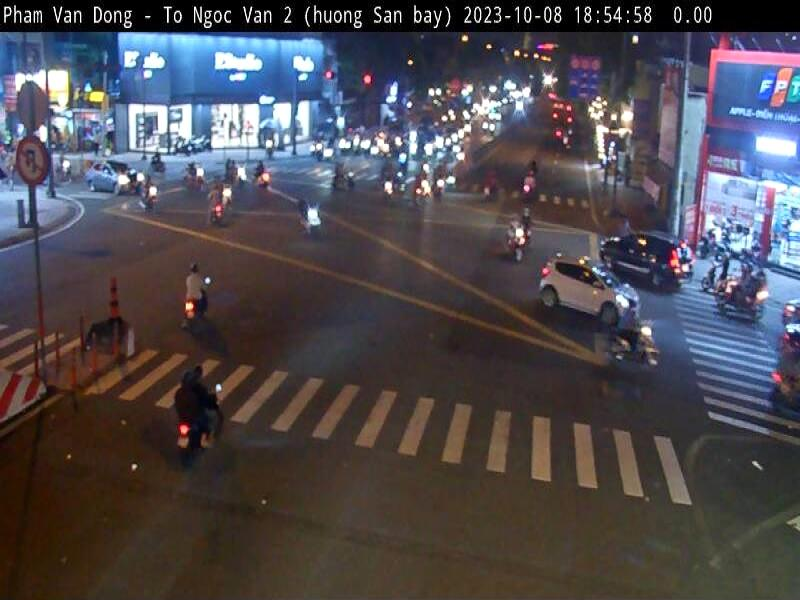car: (537, 255, 619, 316), (602, 232, 686, 290), (86, 167, 120, 195)
